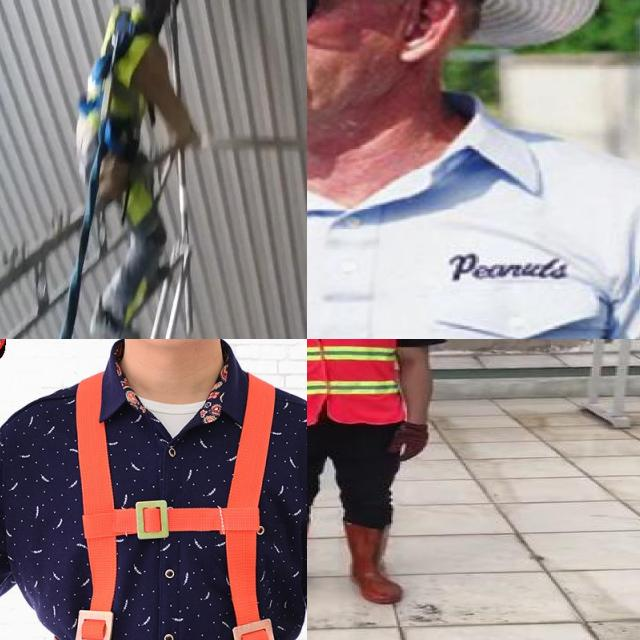Harness: (16, 366, 307, 640), (78, 7, 136, 146)
No_Ear-Protection: (396, 0, 460, 66)
boots: (341, 523, 405, 606)
glasses: (307, 0, 438, 41)
hand_glove: (386, 424, 430, 462)
person: (307, 0, 593, 339), (307, 339, 440, 615)
vest: (307, 339, 403, 427)
